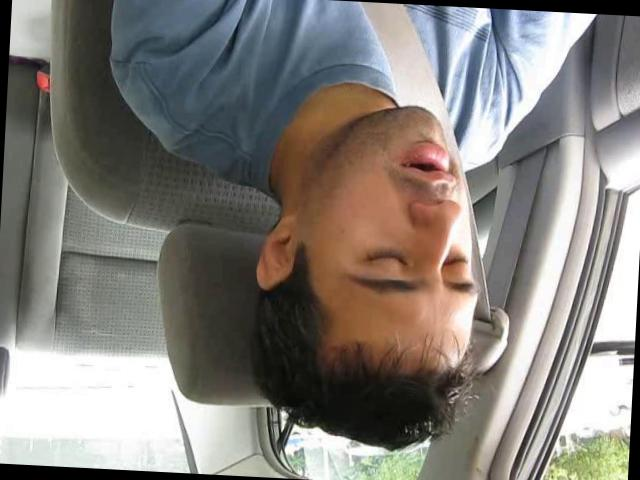eye_closed: (358, 237, 416, 275), (440, 246, 474, 276)
face: (318, 101, 495, 319)
